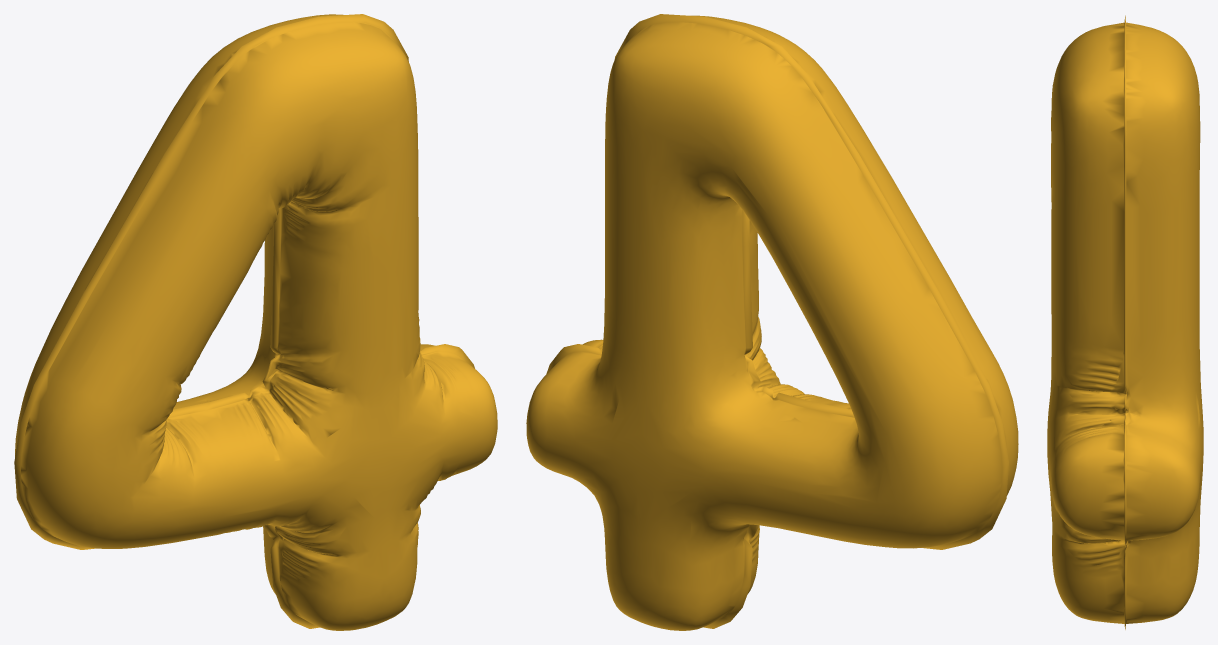
Rendered from zahlen-gold-nr4-gruppe.glb.
The picture shows the model from 3 angles, left to right: view 1: azimuth 30°, elevation 25°; view 2: azimuth 150°, elevation 25°; view 3: azimuth 270°, elevation 25°; orthographic projection. The views are drawn at different scales.
Parts seen in each view (by area): view 1: nr4; view 2: nr4; view 3: nr4.
Part boxes in pixels (bbox=[...]): nr4: bbox=[14, 14, 497, 630]; nr4: bbox=[526, 14, 1018, 630]; nr4: bbox=[1047, 15, 1203, 629].
Size of the model in its own units: 0.4786 by 0.6016 by 0.1487.
